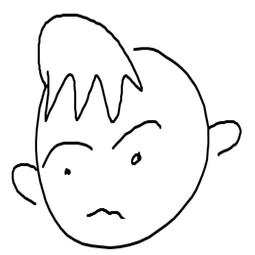ear: (201, 112, 255, 167), (10, 162, 42, 213)
eyebrow: (41, 140, 97, 168)
frowning_eyebrow: (110, 118, 162, 151)
line_unsmiling_mouth: (81, 203, 131, 224)
small_eye: (128, 149, 143, 168), (62, 164, 71, 178)
